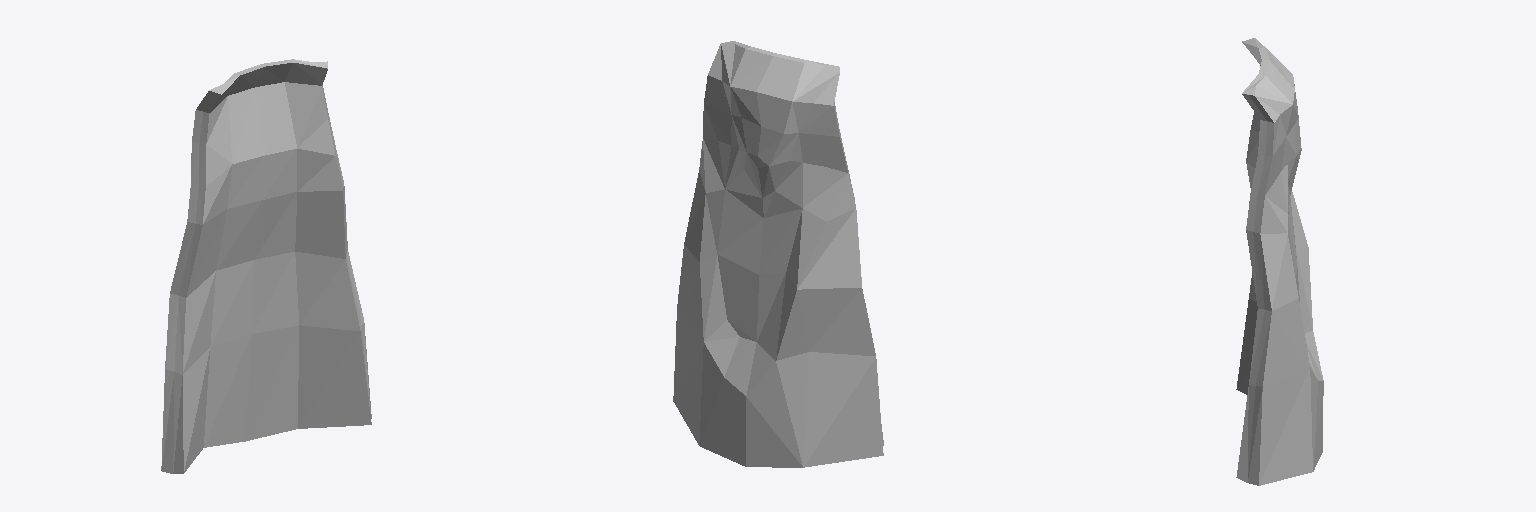
Rendered from SK_Chr_King_Cape_01.obj.
The picture shows the model from 3 angles: view 1: azimuth 30°, elevation 25°; view 2: azimuth 150°, elevation 25°; view 3: azimuth 270°, elevation 25°; orthographic projection.
Parts seen in each view (by area): view 1: SK_Chr_King_Cape_01; view 2: SK_Chr_King_Cape_01; view 3: SK_Chr_King_Cape_01.
Boxes of the visible parts, x1,y1,x2,y2 form: SK_Chr_King_Cape_01: [161, 59, 371, 473]; SK_Chr_King_Cape_01: [673, 41, 883, 467]; SK_Chr_King_Cape_01: [1236, 38, 1323, 485].
Bounding box in the file's own units: 73.24 × 130 × 26.28.